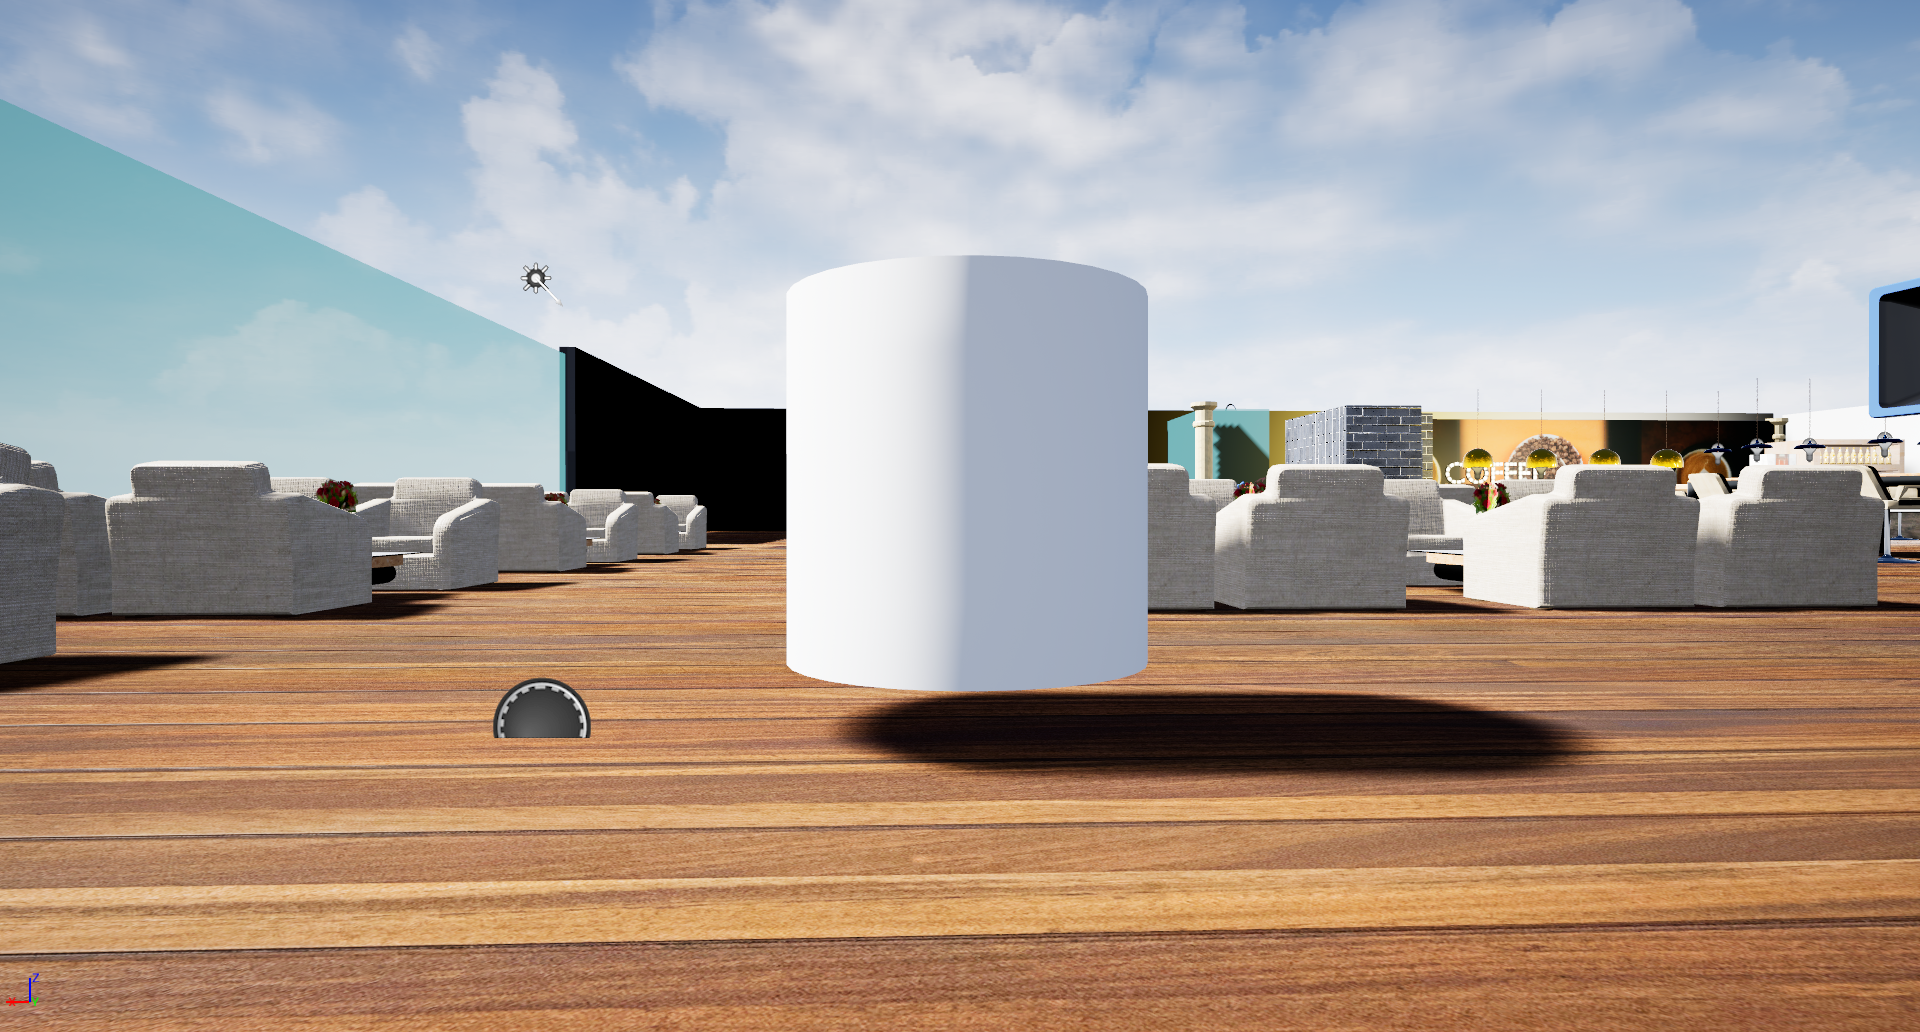Humen: (780, 258, 1154, 696)
